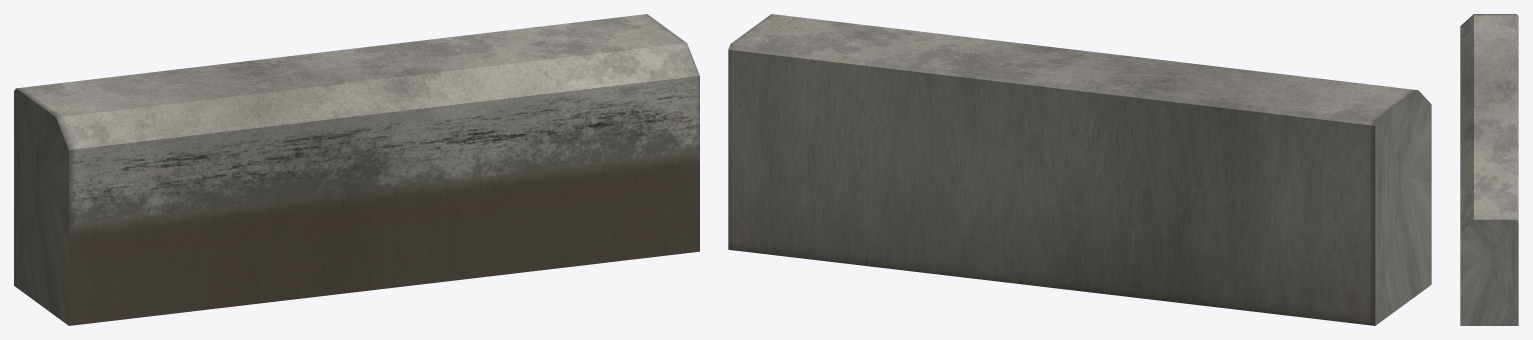
File: curb_ramp_down_lod1_web.glb
The picture shows the model from 3 angles, left to right: view 1: azimuth 30°, elevation 25°; view 2: azimuth 150°, elevation 25°; view 3: azimuth 270°, elevation 25°; orthographic projection. The views are drawn at different scales.
Visible parts, largest first — view 1: curb_ramp_down_Mesh; view 2: curb_ramp_down_Mesh; view 3: curb_ramp_down_Mesh.
Boxes of the visible parts, box(x1,y1,x2,y2) form: curb_ramp_down_Mesh: box(14, 14, 699, 325); curb_ramp_down_Mesh: box(728, 14, 1431, 325); curb_ramp_down_Mesh: box(1460, 14, 1518, 325).
Size of the model in its own units: 0.995 by 0.42 by 0.15.
1 material, 1 textured.
